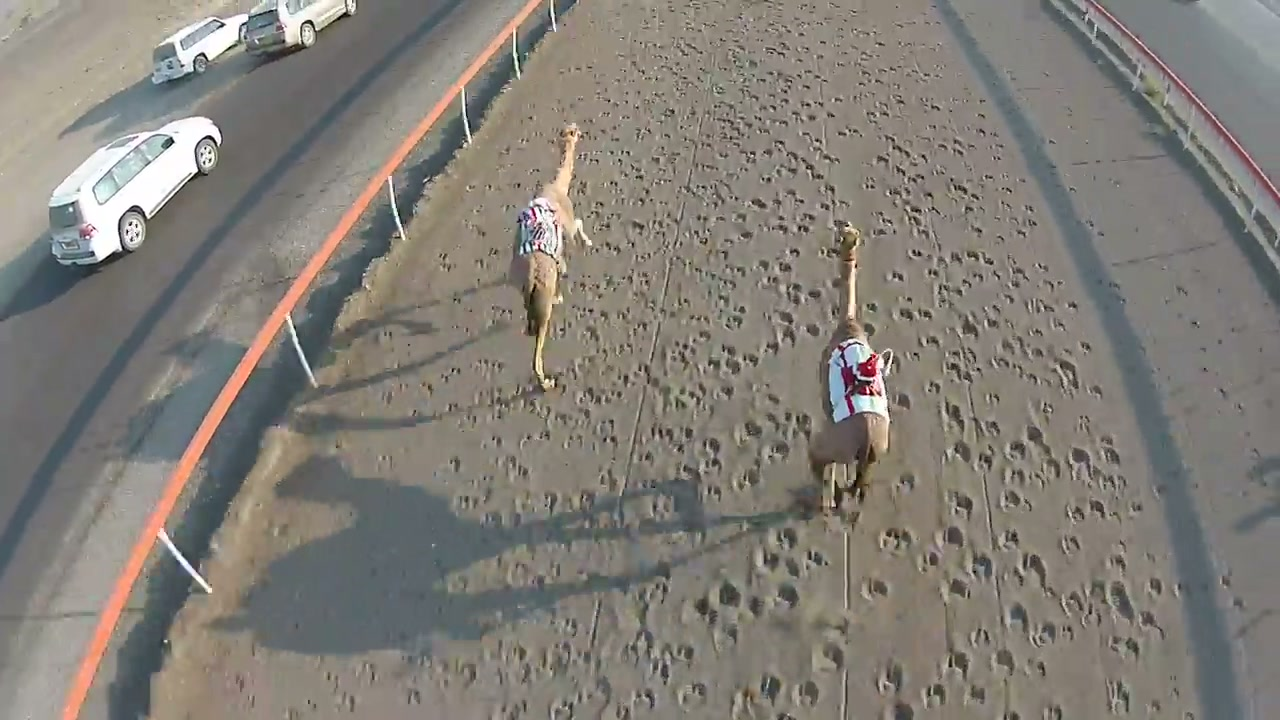animal_foot_print: (477, 58, 846, 693), (868, 58, 1119, 702)
